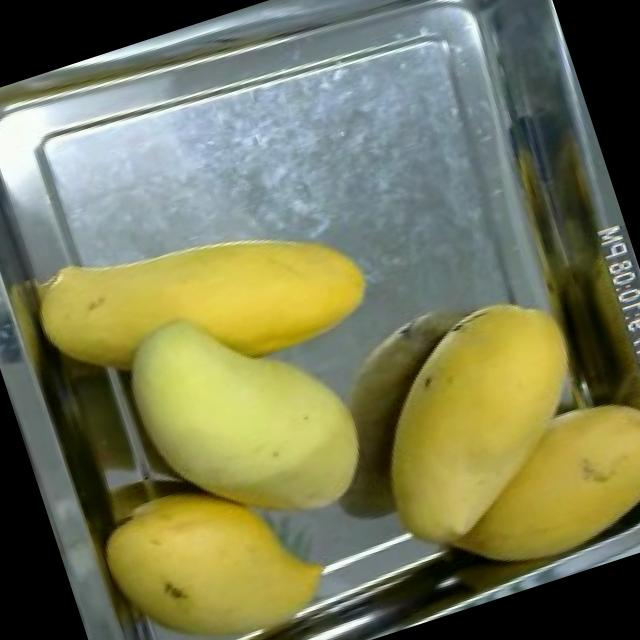fruit: (12, 183, 390, 440), (329, 274, 631, 586), (97, 260, 394, 573), (79, 442, 345, 640)
